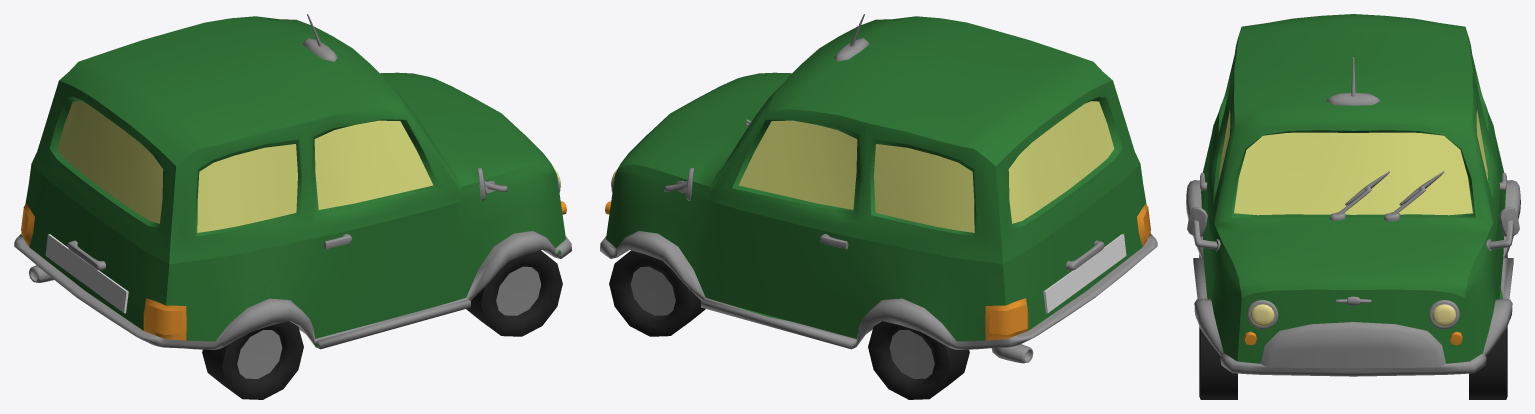
File: SM_Car_01 1.fbx
3 views of the same model, side by side, from view 1: azimuth 30°, elevation 25°; view 2: azimuth 150°, elevation 25°; view 3: azimuth 270°, elevation 25° (orthographic). The views are drawn at different scales.
Visible parts, largest first — view 1: Voiture; view 2: Voiture; view 3: Voiture.
Part boxes in pixels (box(x1,y1,x2,y2)): Voiture: box(14, 14, 571, 399); Voiture: box(600, 14, 1157, 399); Voiture: box(1186, 14, 1520, 399).
Bounding box in the file's own units: 3.73 × 2.59 × 2.37.
